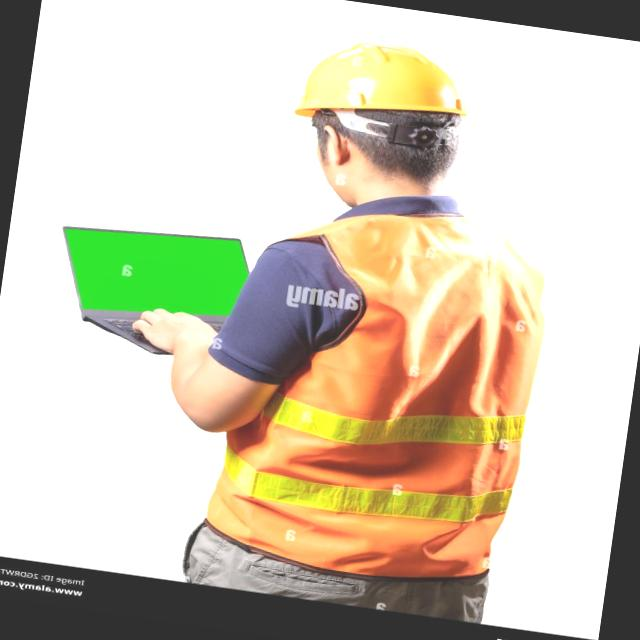helmet: (287, 27, 478, 142)
vest: (188, 180, 561, 602)
